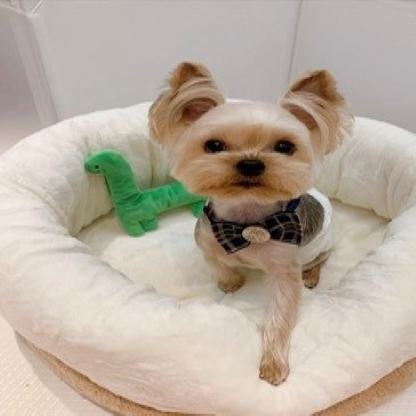yorkshire: (142, 54, 346, 385)
